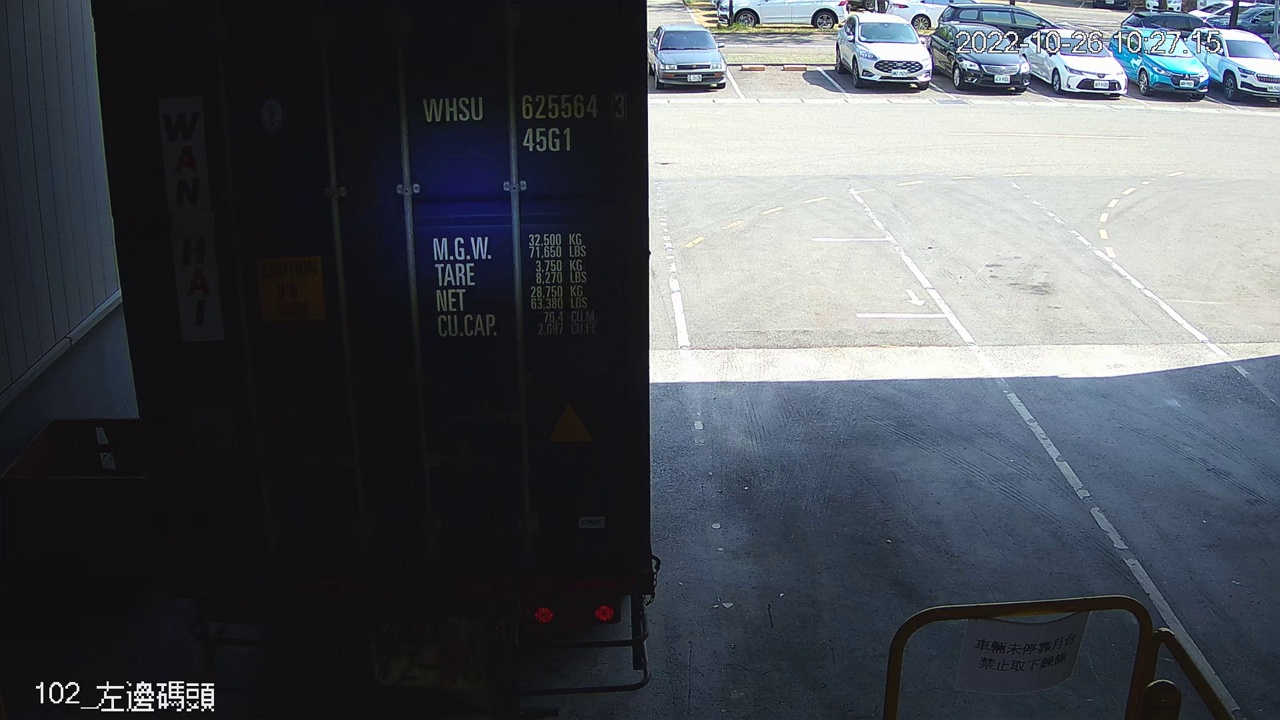container: (415, 83, 635, 162)
